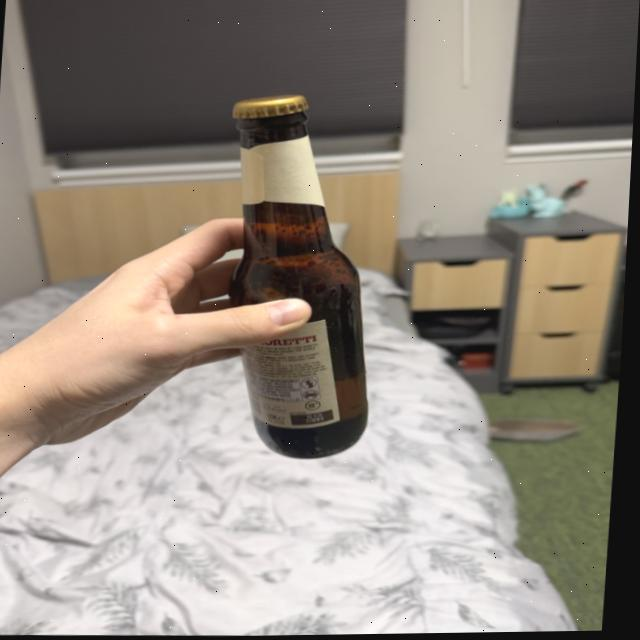beer: (206, 88, 393, 465)
